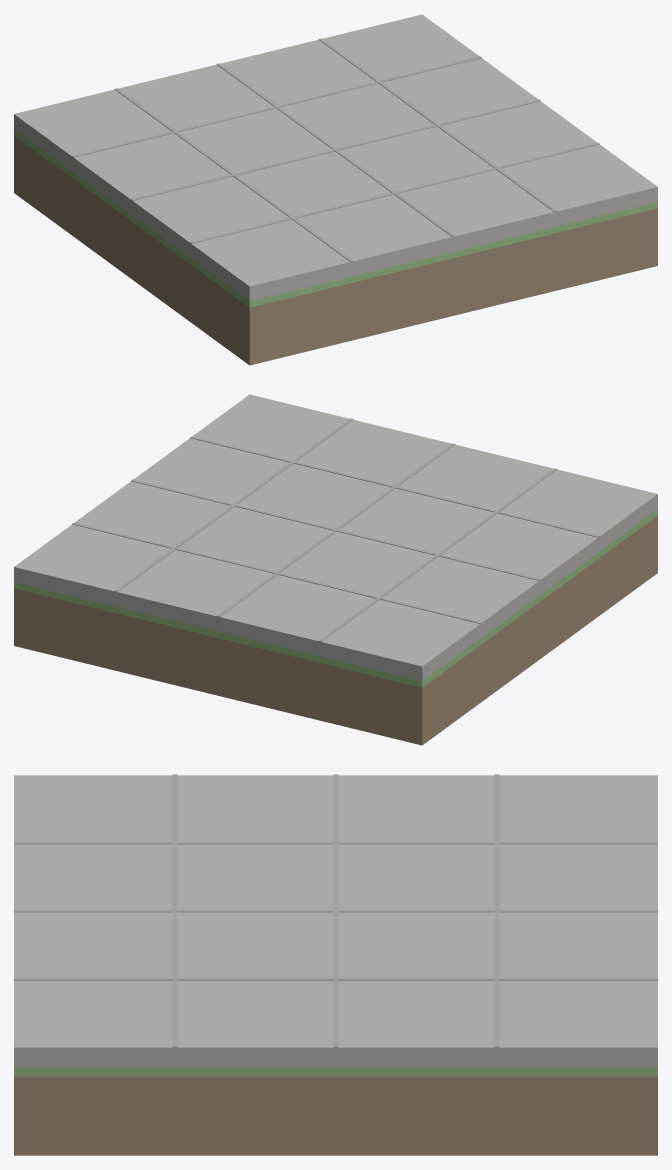
The model's file is ruas__calcada.glb.
3 renders of one model, top to bottom at view 1: azimuth 30°, elevation 25°; view 2: azimuth 150°, elevation 25°; view 3: azimuth 270°, elevation 25°, orthographic. The views are drawn at different scales.
Parts seen in each view (by area): view 1: ruas__calcada; view 2: ruas__calcada; view 3: ruas__calcada.
Boxes of the visible parts, x1,y1,x2,y2 form: ruas__calcada: [14, 14, 657, 365]; ruas__calcada: [14, 394, 657, 745]; ruas__calcada: [14, 774, 657, 1155].
Size of the model in its own units: 2 by 0.373 by 2.
